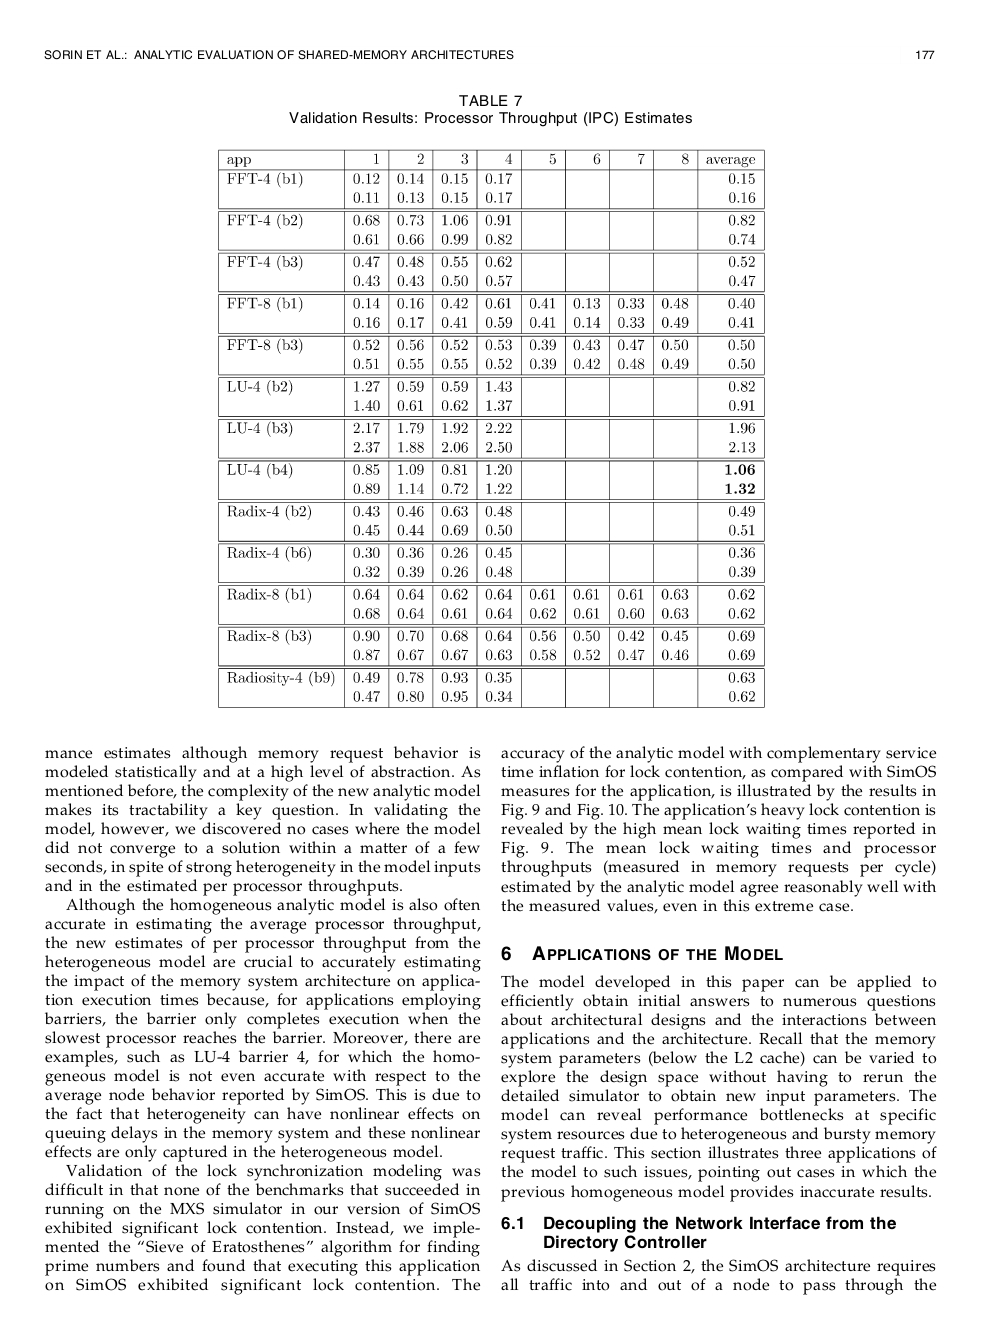Table: (218, 148, 764, 709)
